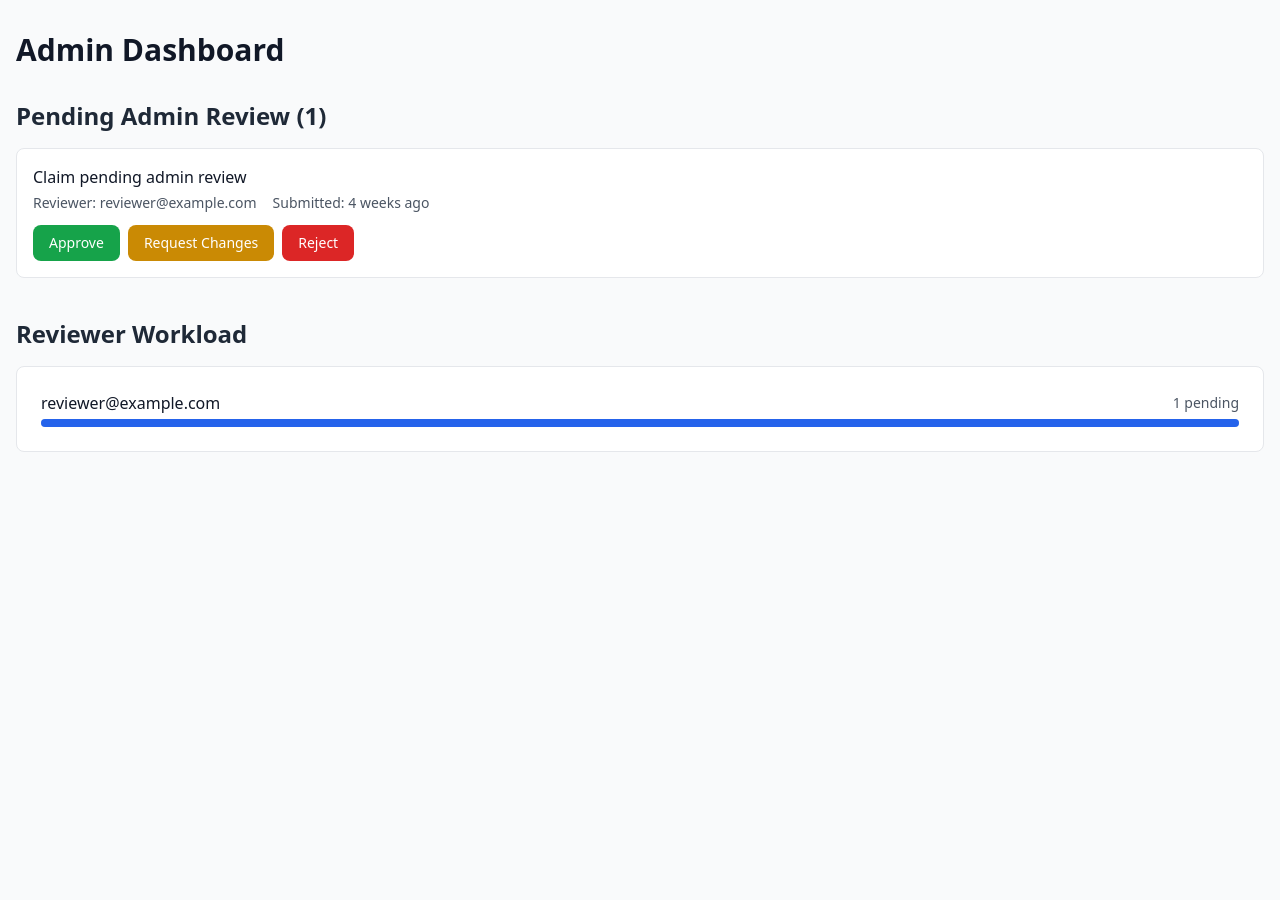
Test: Admin Dashboard - TDD › Action Modals › should open reject modal when Reject button clicked
The width and height of the screenshot is (1280, 900).
Click the button "Reject".
click(318, 243)  # box x1=282 y1=225 x2=354 y2=261
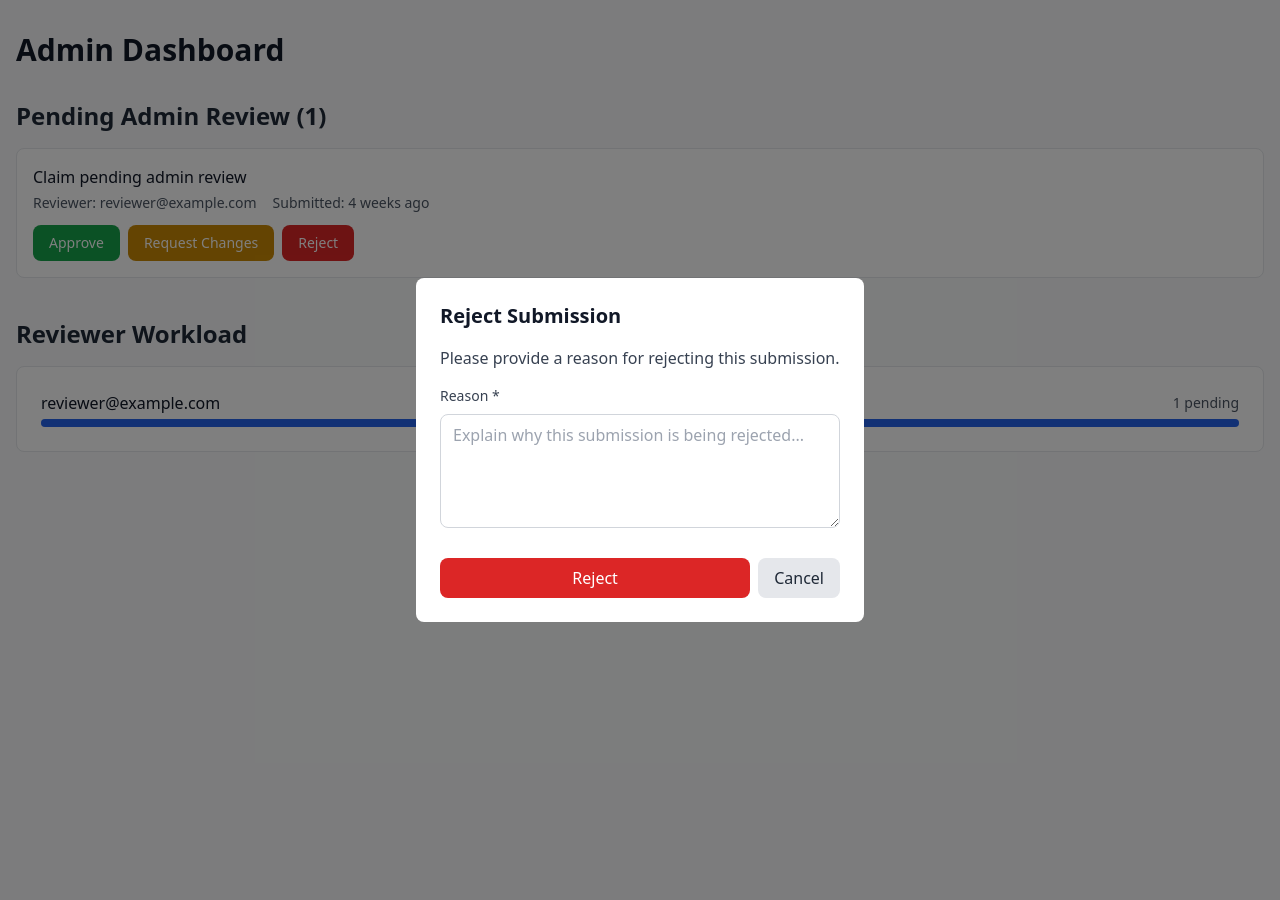
Expected: the heading "Reject Submission" is shown, x1=440 y1=302 x2=621 y2=329
Expected: the text box labelled "Reason *" is shown, x1=440 y1=414 x2=840 y2=528
